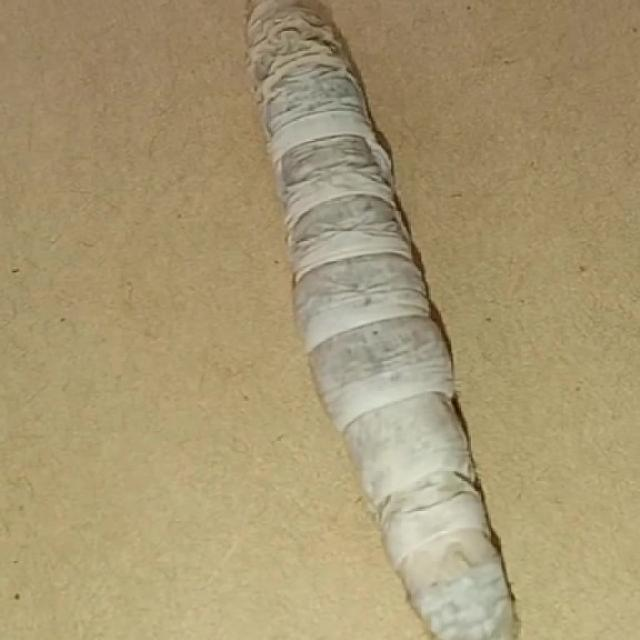Grasserie: (220, 4, 597, 640)
